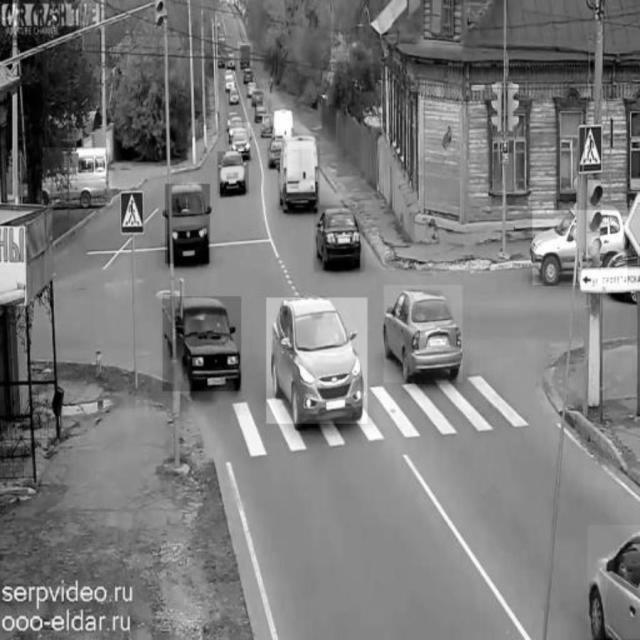vehicle: (267, 298, 368, 424), (384, 285, 462, 383), (163, 296, 241, 390), (533, 210, 629, 286), (588, 525, 640, 638), (43, 148, 113, 205), (165, 184, 210, 264), (314, 206, 365, 273), (278, 137, 320, 210), (218, 152, 248, 194), (230, 123, 250, 160), (266, 135, 286, 170), (238, 41, 254, 71), (260, 107, 272, 141), (248, 89, 268, 109), (224, 72, 234, 92)
